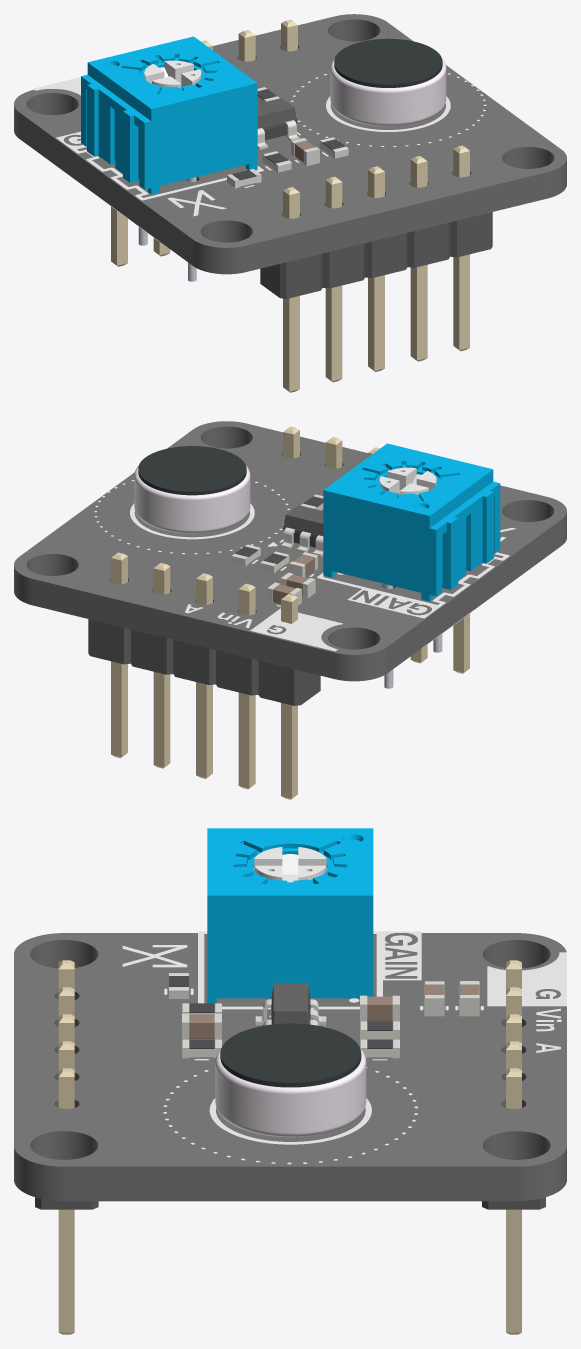
The picture shows the model from 3 angles, top to bottom: view 1: azimuth 30°, elevation 25°; view 2: azimuth 150°, elevation 25°; view 3: azimuth 270°, elevation 25°; orthographic projection. The views are drawn at different scales.
Parts seen in each view (by area): view 1: Node16, Node15, Node9, Node8, Node2, Node3, Node7, Node10, Node1, Node13; view 2: Node16, Node15, Node9, Node8, Node7, Node2, Node3, Node10, Node1, Node11; view 3: Node16, Node15, Node9, Node7, Node2, Node3, Node10, Node8, Node1, Node11, Node13, Node12.
Boxes of the visible parts, x1,y1,x2,y2 form: Node16: (14,14,566,274); Node15: (81,36,257,194); Node9: (111,19,469,392); Node8: (257,98,492,298); Node2: (330,58,446,126); Node3: (334,38,442,87); Node7: (33,73,486,241); Node10: (227,87,348,188); Node1: (144,60,201,87); Node13: (232,89,345,180); Node16: (14,421,566,681); Node15: (323,443,500,601); Node9: (111,426,469,799); Node8: (88,505,323,705); Node7: (94,480,525,651); Node2: (134,465,250,533); Node3: (138,446,246,495); Node10: (232,494,323,605); Node1: (379,467,436,494); Node11: (273,555,314,603); Node16: (14,933,566,1201); Node15: (207,828,373,1003); Node9: (58,960,521,1334); Node7: (122,931,566,1164); Node2: (215,1049,366,1137); Node3: (220,1023,361,1087); Node10: (169,973,479,1058); Node8: (35,983,545,1209); Node1: (253,847,327,882); Node11: (189,985,478,1038); Node13: (169,976,392,1048); Node12: (183,1013,398,1057).
Size of the model in its own units: 22 by 15.02 by 22.
